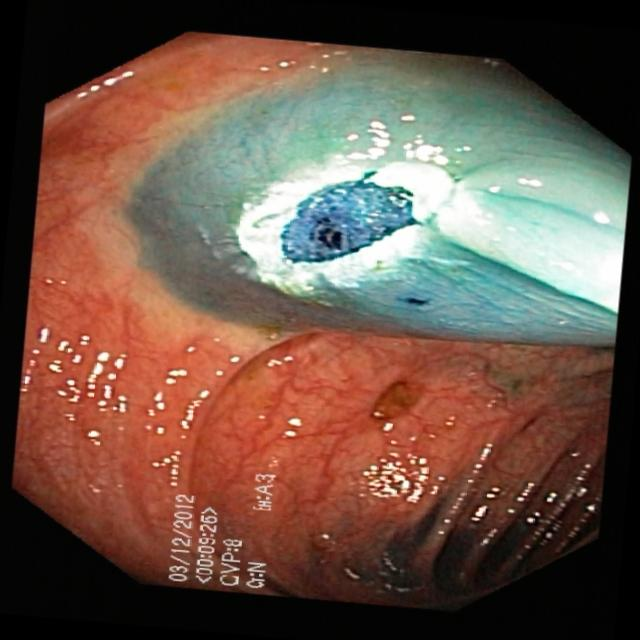dyed-resection-margins: (226, 140, 463, 304)
